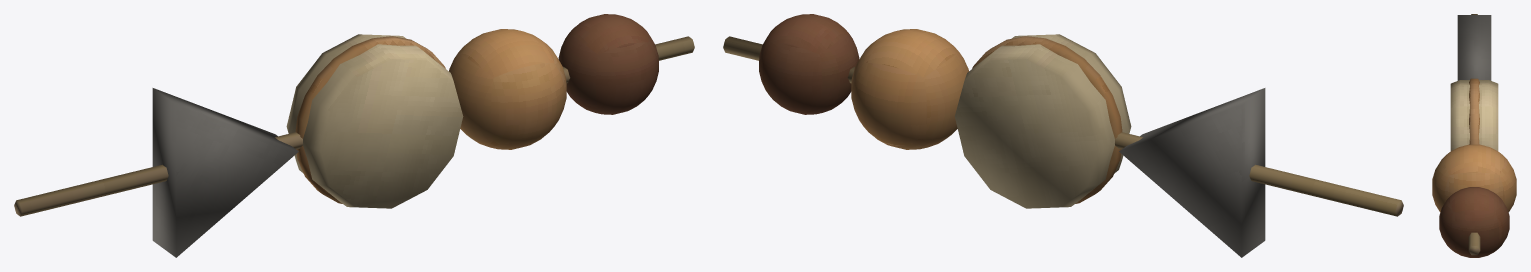
Rendered from oden.glb.
3 views of the same model, side by side, from view 1: azimuth 30°, elevation 25°; view 2: azimuth 150°, elevation 25°; view 3: azimuth 270°, elevation 25° (orthographic). The views are drawn at different scales.
Visible parts, largest first — view 1: oden_felt_daikon, oden_felt_konnyaku, oden_felt_tan, oden_felt_brown, oden_wood_light; view 2: oden_felt_daikon, oden_felt_konnyaku, oden_felt_tan, oden_felt_brown, oden_wood_light; view 3: oden_felt_tan, oden_felt_brown, oden_felt_daikon, oden_felt_konnyaku, oden_wood_light.
Boxes of the visible parts, box(x1,y1,x2,y2) form: oden_felt_daikon: box(286, 34, 463, 208); oden_felt_konnyaku: box(152, 88, 298, 257); oden_felt_tan: box(295, 29, 566, 203); oden_felt_brown: box(558, 14, 658, 114); oden_wood_light: box(14, 36, 694, 216); oden_felt_daikon: box(954, 34, 1131, 208); oden_felt_konnyaku: box(1119, 88, 1265, 257); oden_felt_tan: box(851, 29, 1122, 203); oden_felt_brown: box(759, 14, 859, 114); oden_wood_light: box(723, 36, 1403, 216); oden_felt_tan: box(1432, 78, 1516, 212); oden_felt_brown: box(1439, 187, 1509, 257); oden_felt_daikon: box(1450, 80, 1498, 150); oden_felt_konnyaku: box(1457, 15, 1491, 80); oden_wood_light: box(1468, 14, 1480, 255).
Size of the model in its own units: 0.345 by 0.0798 by 0.0529.
5 materials, 5 textured.
